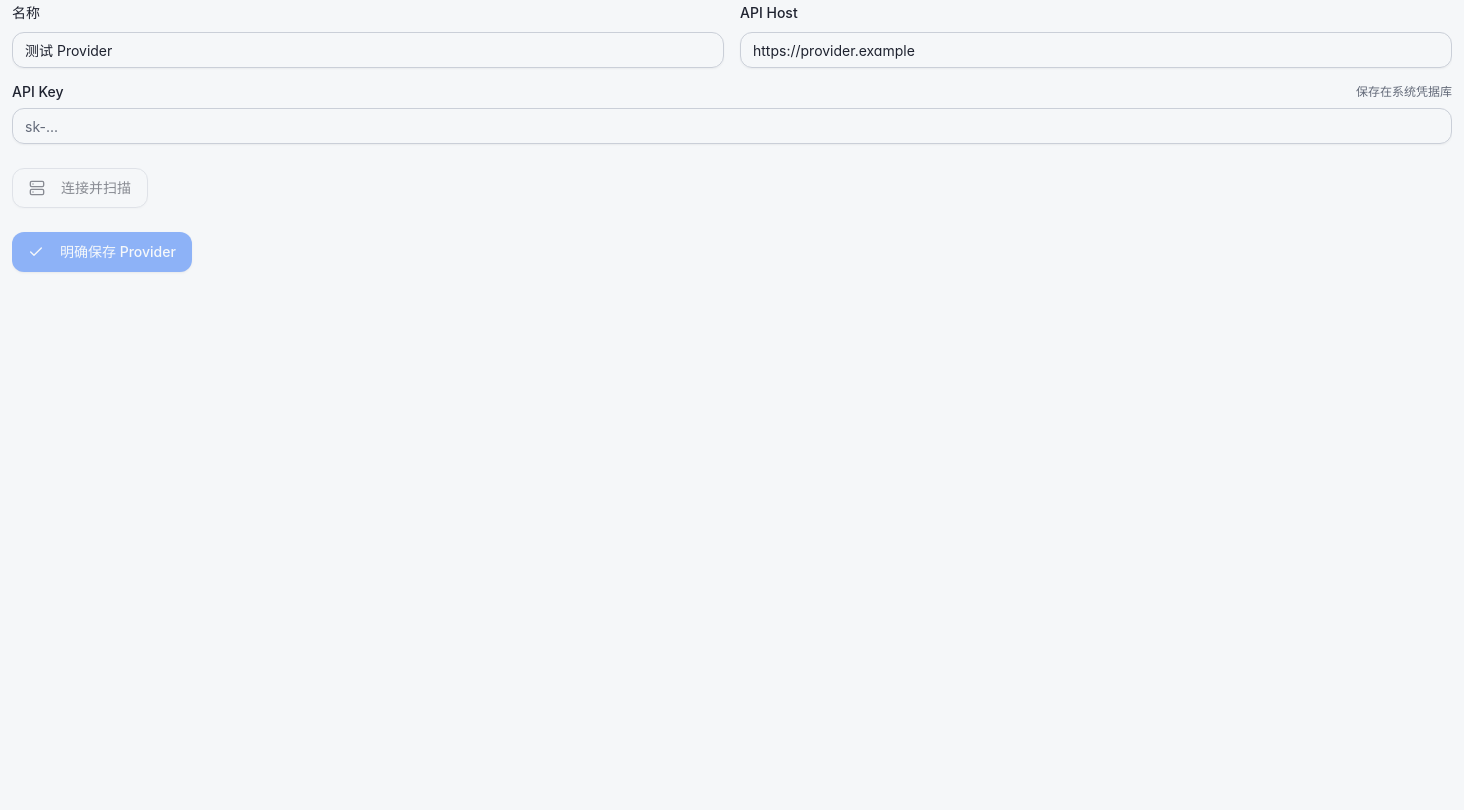
Test: ProviderSetupForm › 设备凭据库失败时显示保存错误且不标记为已保存
Type "test-key" into the password field labelled "API Key" at (732, 126), box [12,108,1452,144]
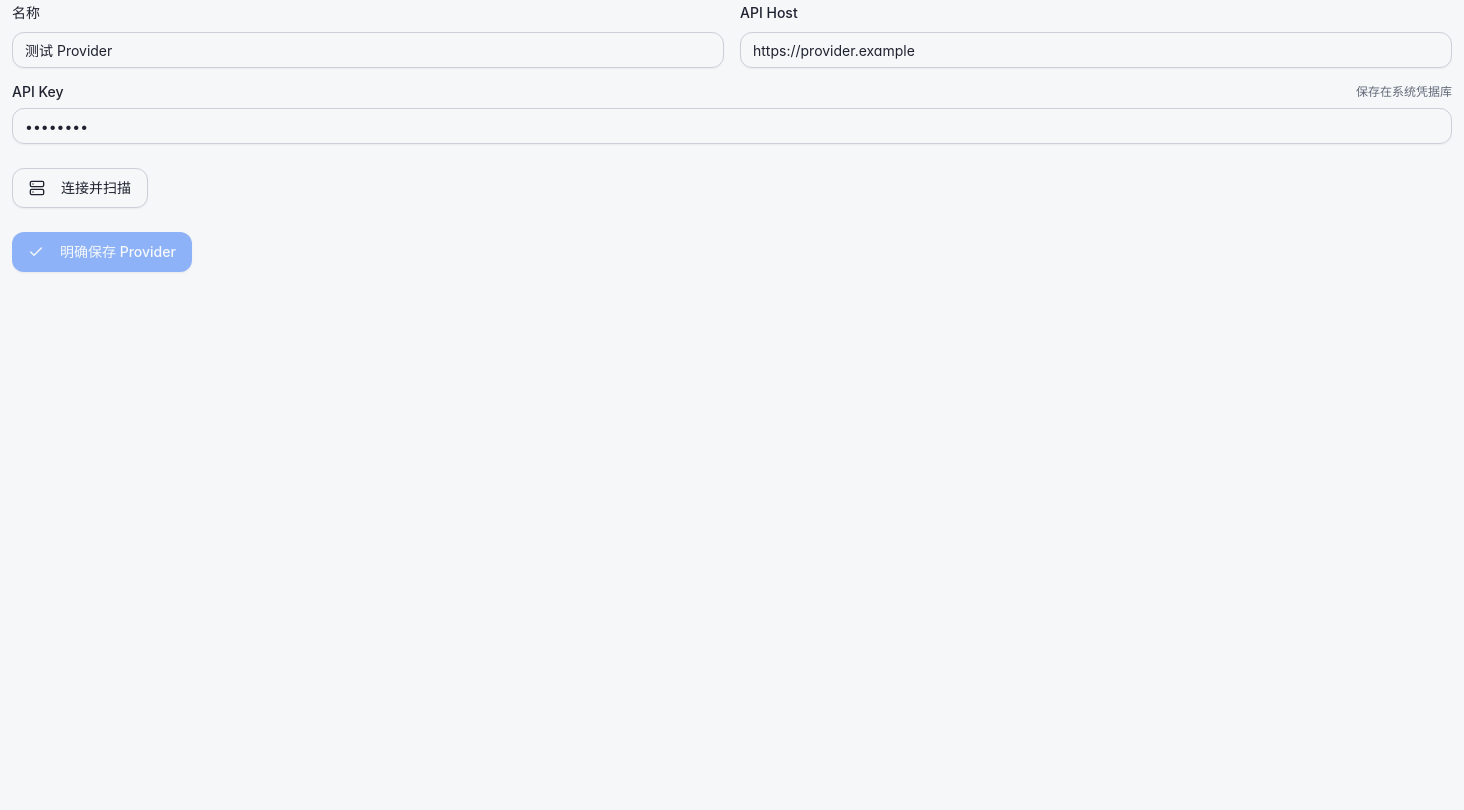
Click the button "连接并扫描" at (80, 188), box [12,168,148,208]
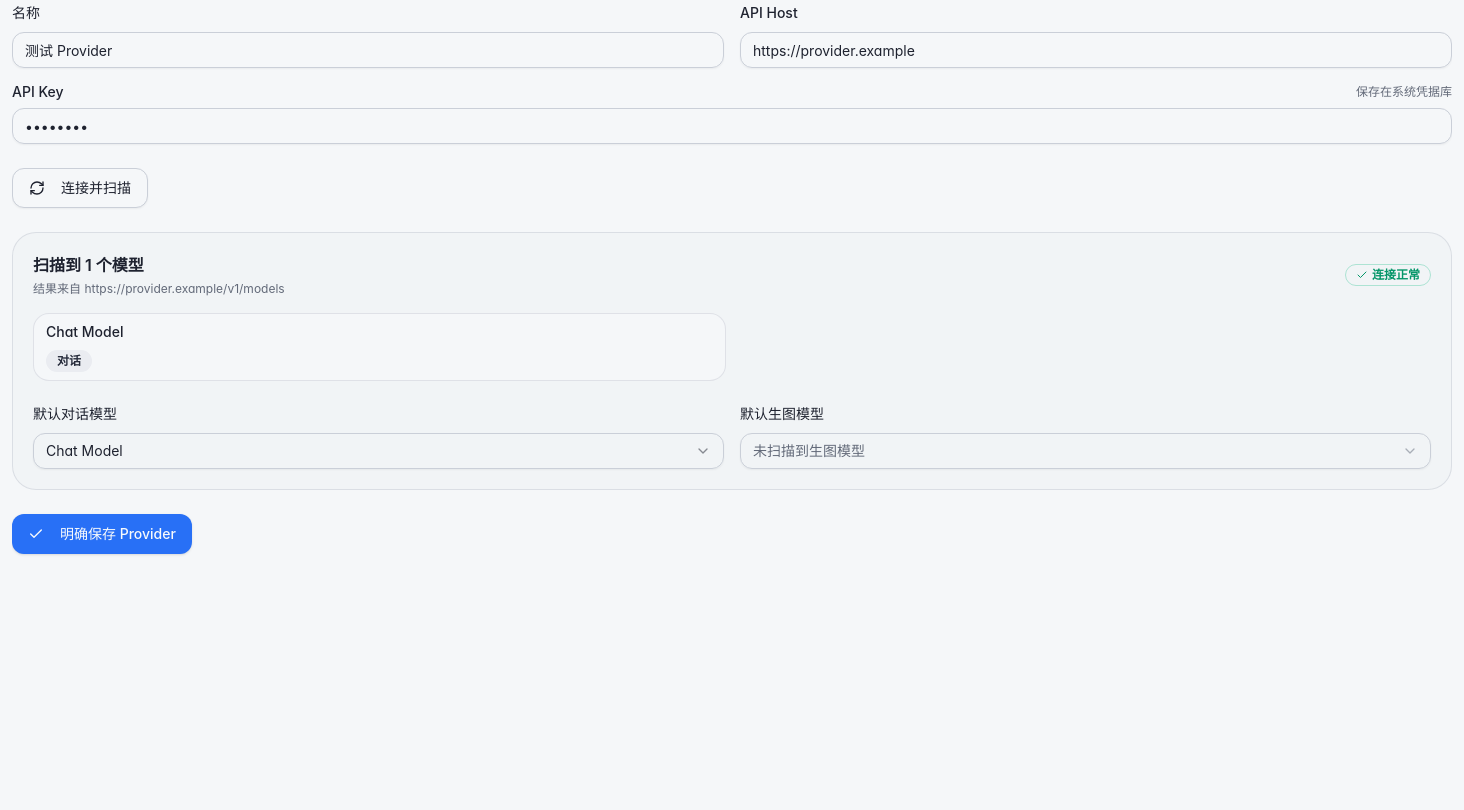
Check: the heading "扫描到 1 个模型" is shown, box [33,255,144,275]
Click the button "明确保存 Provider" at (102, 534), box [12,514,192,554]
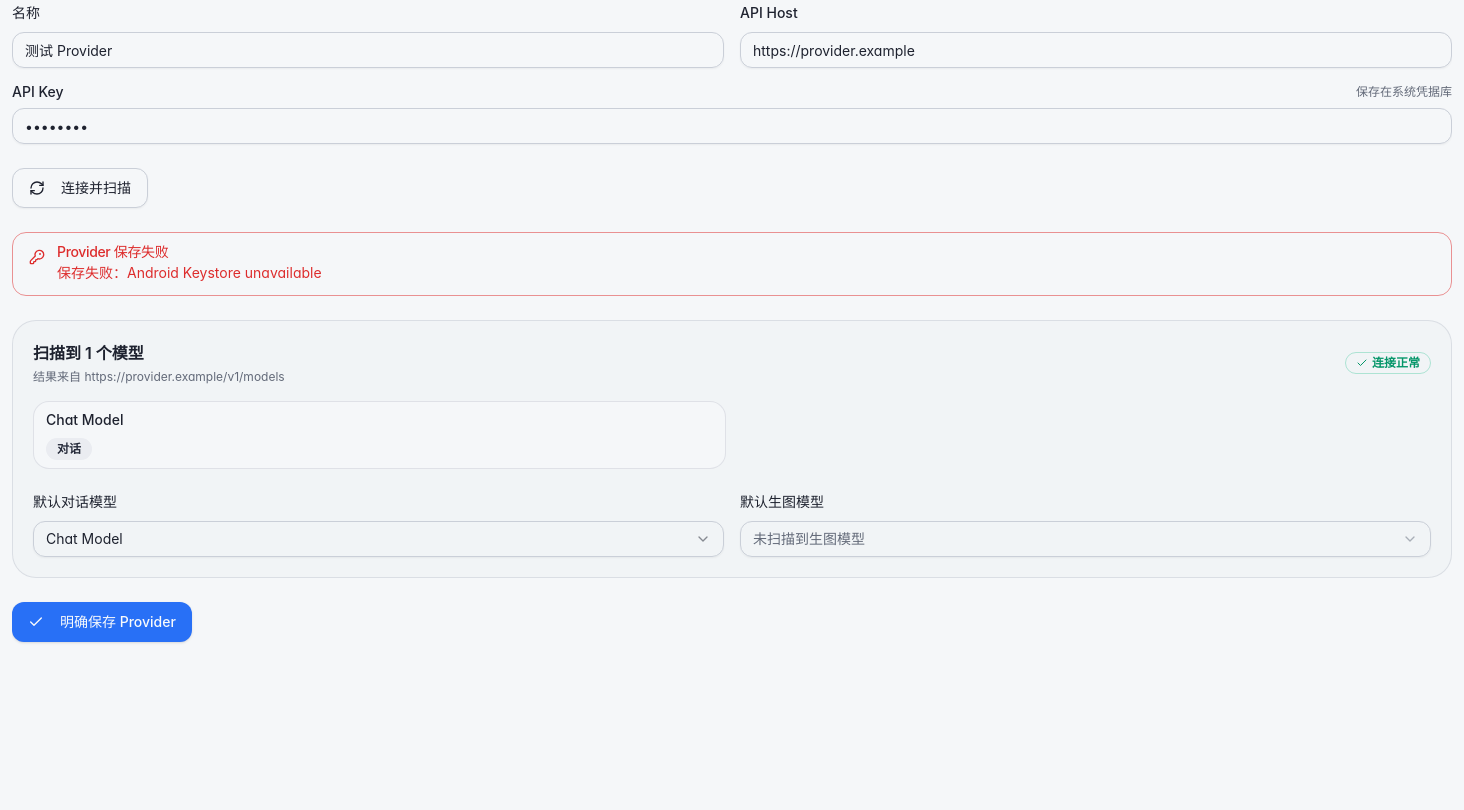
Check: the text "保存失败：Android Keystore unavailable" is shown, box [57,264,322,281]
